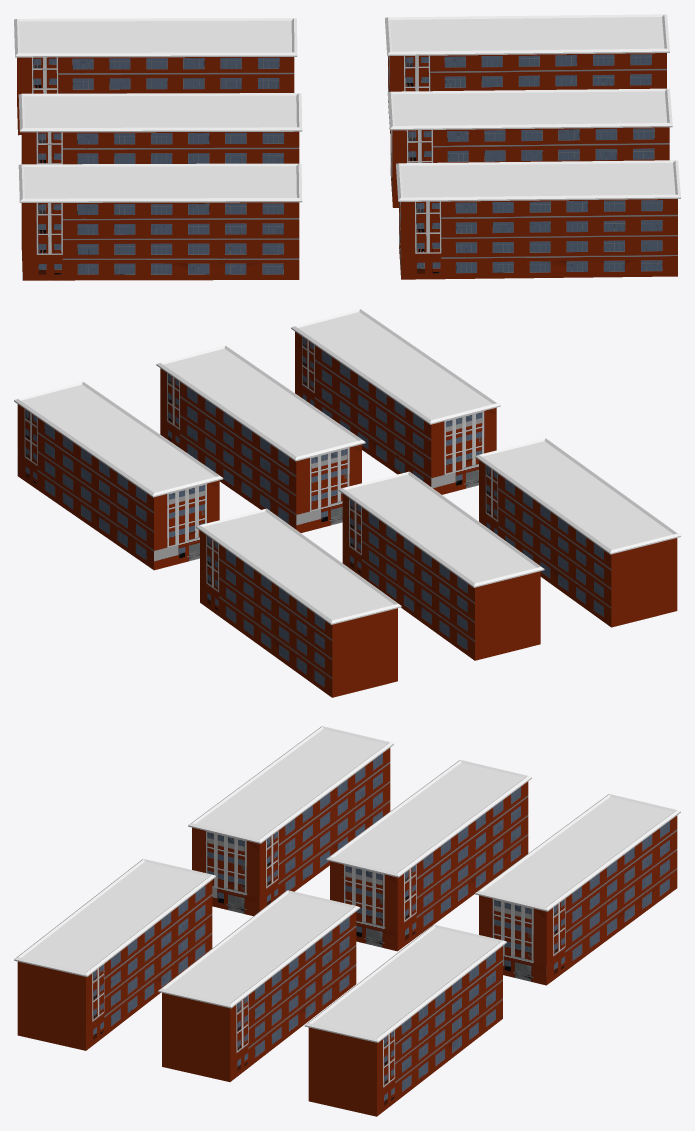
Rendered from jiaoxuelou.gltf.
The picture shows the model from 3 angles, top to bottom: view 1: azimuth 30°, elevation 25°; view 2: azimuth 150°, elevation 25°; view 3: azimuth 270°, elevation 25°; orthographic projection. The views are drawn at different scales.
Parts seen in each view (by area): view 1: Line3117662, Line3117658, Line3117659, Line3117663, Line3117661, Line3117660; view 2: Line3117659, Line3117660, Line3117663, Line3117662, Line3117661, Line3117658; view 3: Line3117661, Line3117663, Line3117658, Line3117659, Line3117660, Line3117662.
Part boxes in pixels (box(x1,y1,x2,y2)): Line3117662: box(18, 163, 302, 280); Line3117658: box(396, 160, 680, 279); Line3117659: box(14, 18, 297, 135); Line3117663: box(385, 14, 669, 133); Line3117661: box(387, 88, 672, 207); Line3117660: box(18, 93, 302, 164); Line3117659: box(196, 508, 401, 697); Line3117660: box(338, 471, 544, 660); Line3117663: box(14, 382, 223, 570); Line3117662: box(475, 438, 680, 627); Line3117661: box(156, 345, 365, 532); Line3117658: box(291, 309, 500, 494); Line3117661: box(158, 890, 360, 1081); Line3117663: box(304, 924, 506, 1116); Line3117658: box(14, 859, 215, 1050); Line3117659: box(475, 794, 680, 985); Line3117660: box(326, 760, 531, 951); Line3117662: box(188, 726, 393, 916).
Bounding box in the file's own units: 819 × 94.84 × 732.
Materials: 30 (30 with a texture image).
